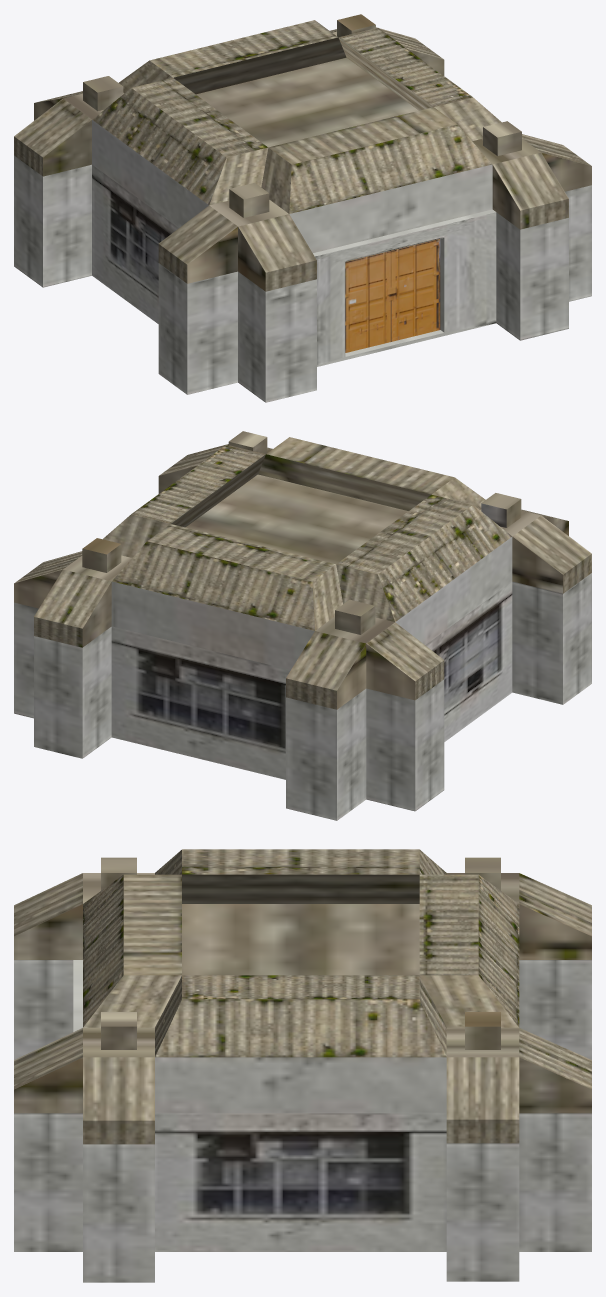
The model's file is Building.fbx.
3 views of the same model, one above another, from view 1: azimuth 30°, elevation 25°; view 2: azimuth 150°, elevation 25°; view 3: azimuth 270°, elevation 25° (orthographic). The views are drawn at different scales.
Visible parts, largest first — view 1: Cube; view 2: Cube; view 3: Cube.
Boxes of the visible parts, x1,y1,x2,y2 form: Cube: [14, 14, 591, 402]; Cube: [14, 431, 591, 820]; Cube: [14, 849, 591, 1282].
Size of the model in its own units: 800 by 357 by 794.
3 materials, 3 textured.
